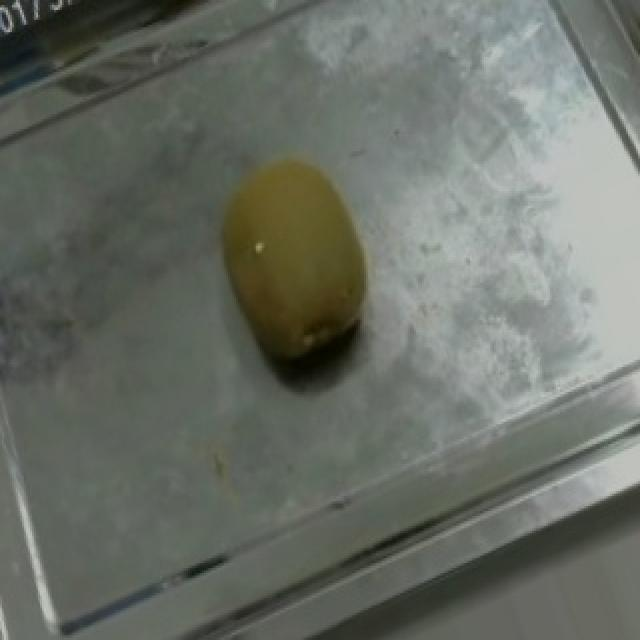Fruit: (180, 116, 408, 402)
